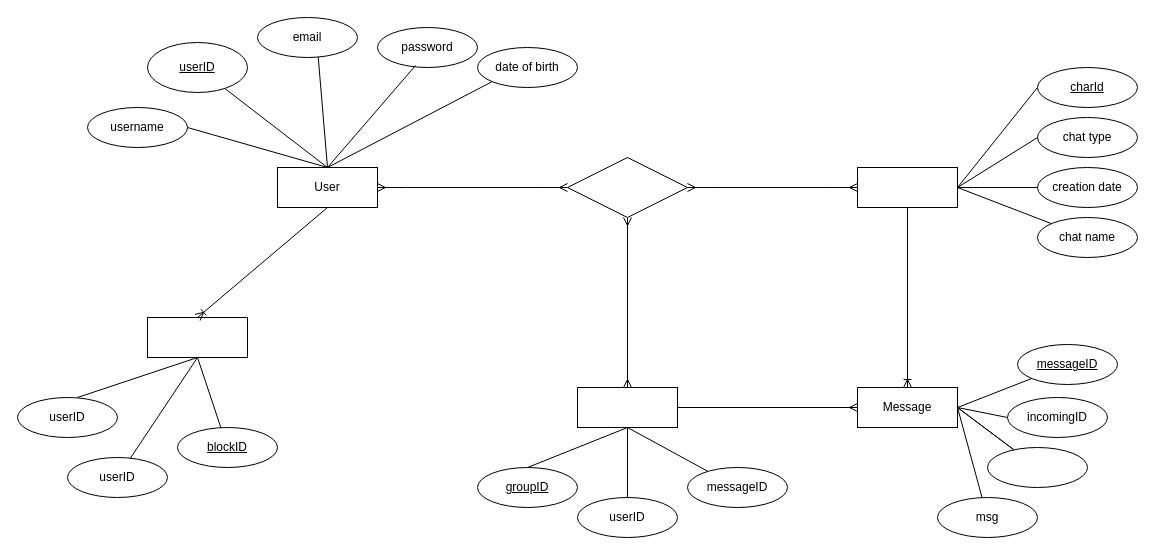
The diagram is 1155 pixels wide and 555 high, and some of its shapes have lost their labels. Each missing label, with the centre of its shape:
Blocked User: the point at 197,337
Chat: the point at 907,187
Group Chat: the point at 627,407
have: the point at 627,187
outgoingID: the point at 1037,467
